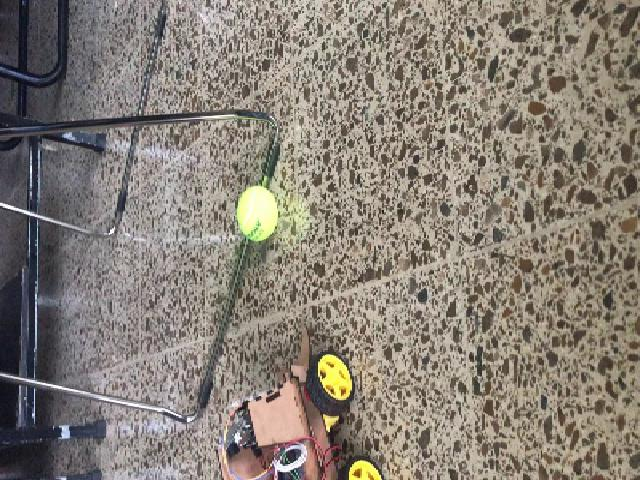Ball: (235, 185, 278, 241)
Robot: (214, 325, 384, 479)
